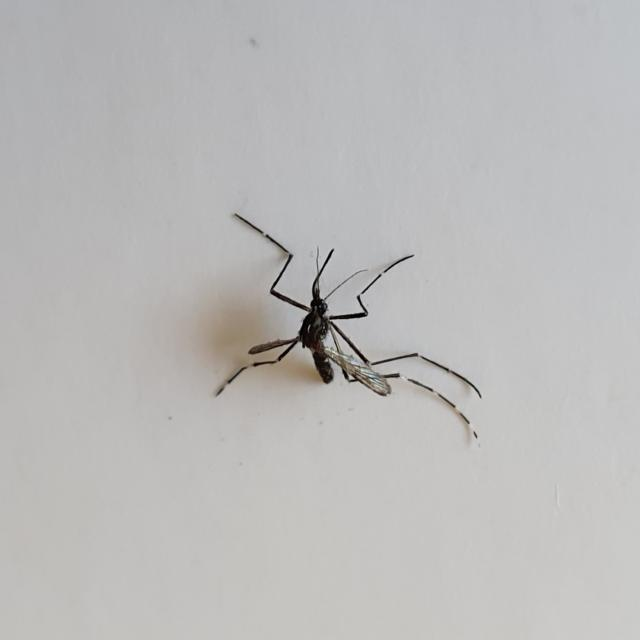albopictus: (207, 196, 471, 443)
